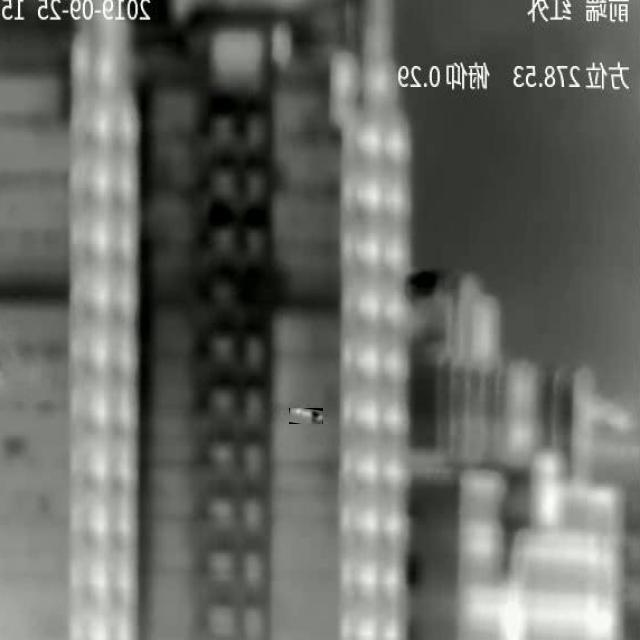drone: (289, 408, 322, 424)
